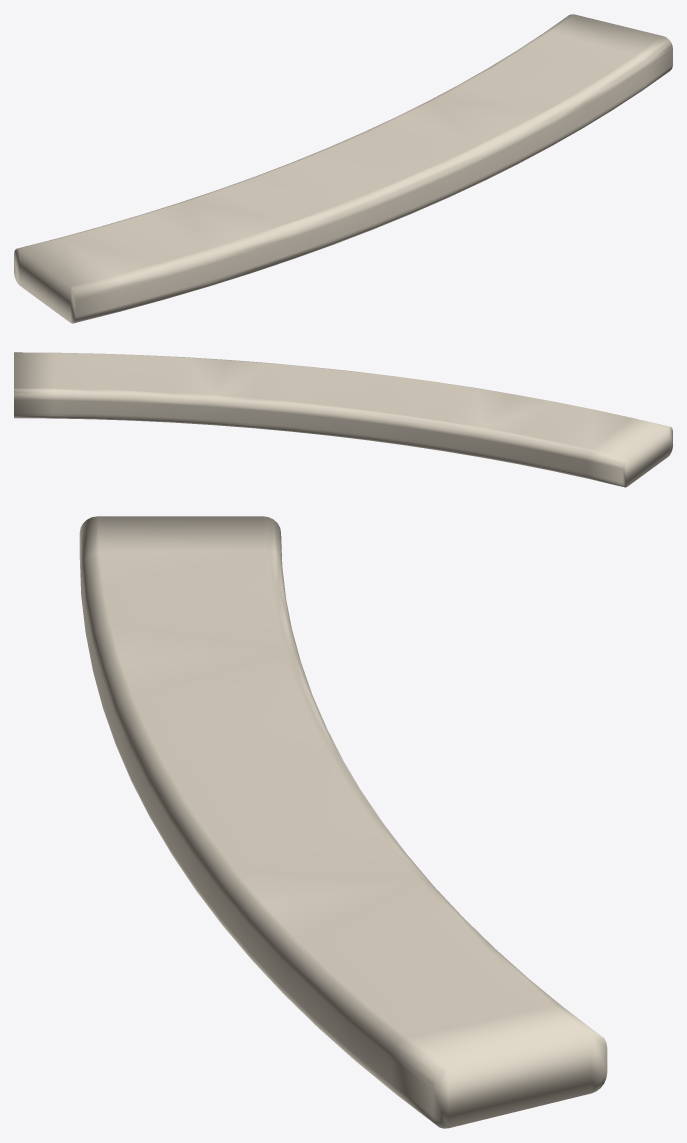
The model's file is ArcCoping_R4_A30.glb.
The picture shows the model from 3 angles, top to bottom: view 1: azimuth 30°, elevation 25°; view 2: azimuth 150°, elevation 25°; view 3: azimuth 270°, elevation 25°; orthographic projection. The views are drawn at different scales.
Visible parts, largest first — view 1: PBK_Coping.012; view 2: PBK_Coping.012; view 3: PBK_Coping.012.
Part boxes in pixels (x1,y1,x2,y2): PBK_Coping.012: (14, 14, 672, 323); PBK_Coping.012: (14, 352, 672, 487); PBK_Coping.012: (79, 516, 607, 1128).
Size of the model in its own units: 2.03 by 0.1 by 0.8124.
